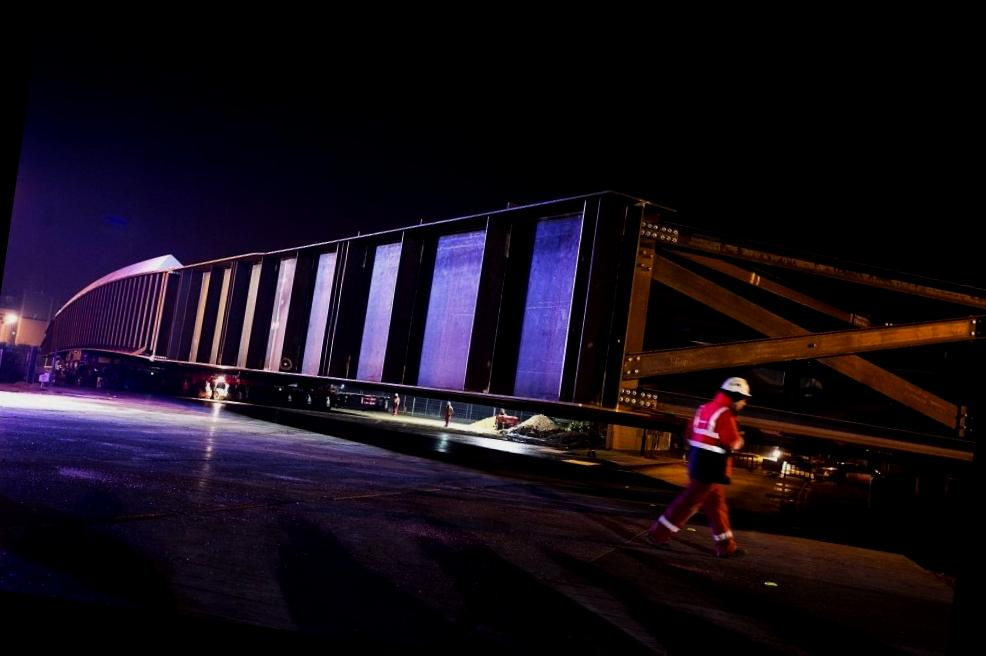helmet: (722, 374, 750, 400)
person: (643, 364, 774, 566)
